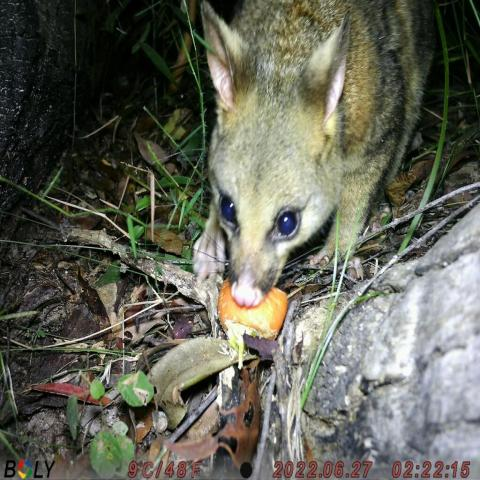small_animal: (190, 1, 437, 310)
